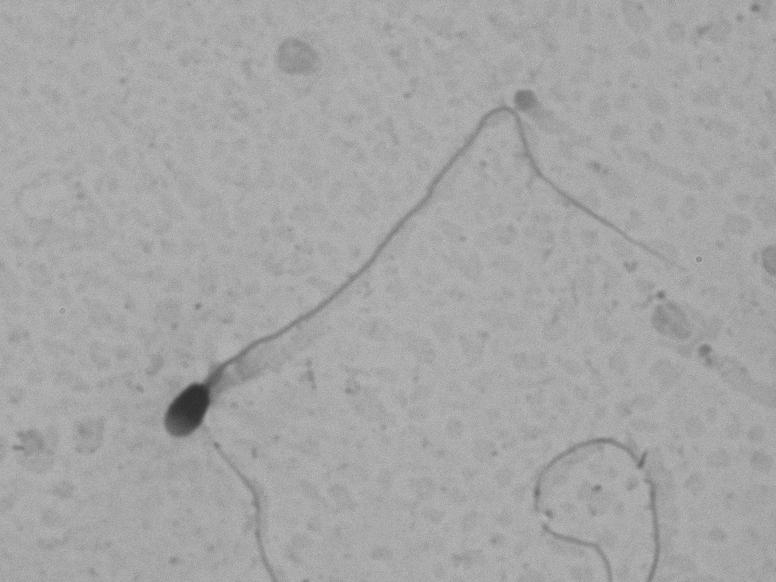Normal: (156, 65, 704, 446)
